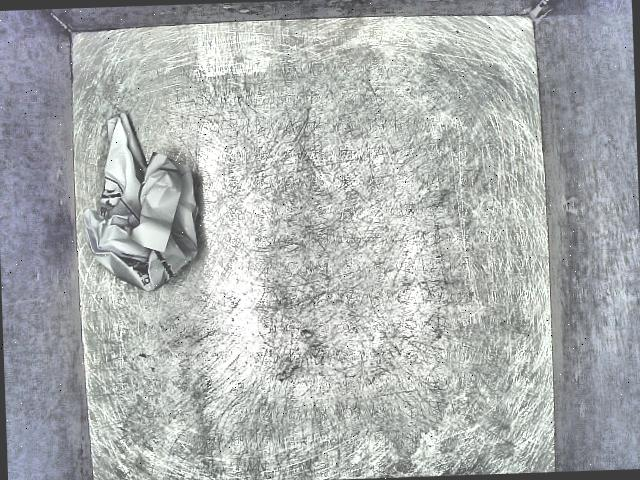Paper: (74, 101, 212, 298)
